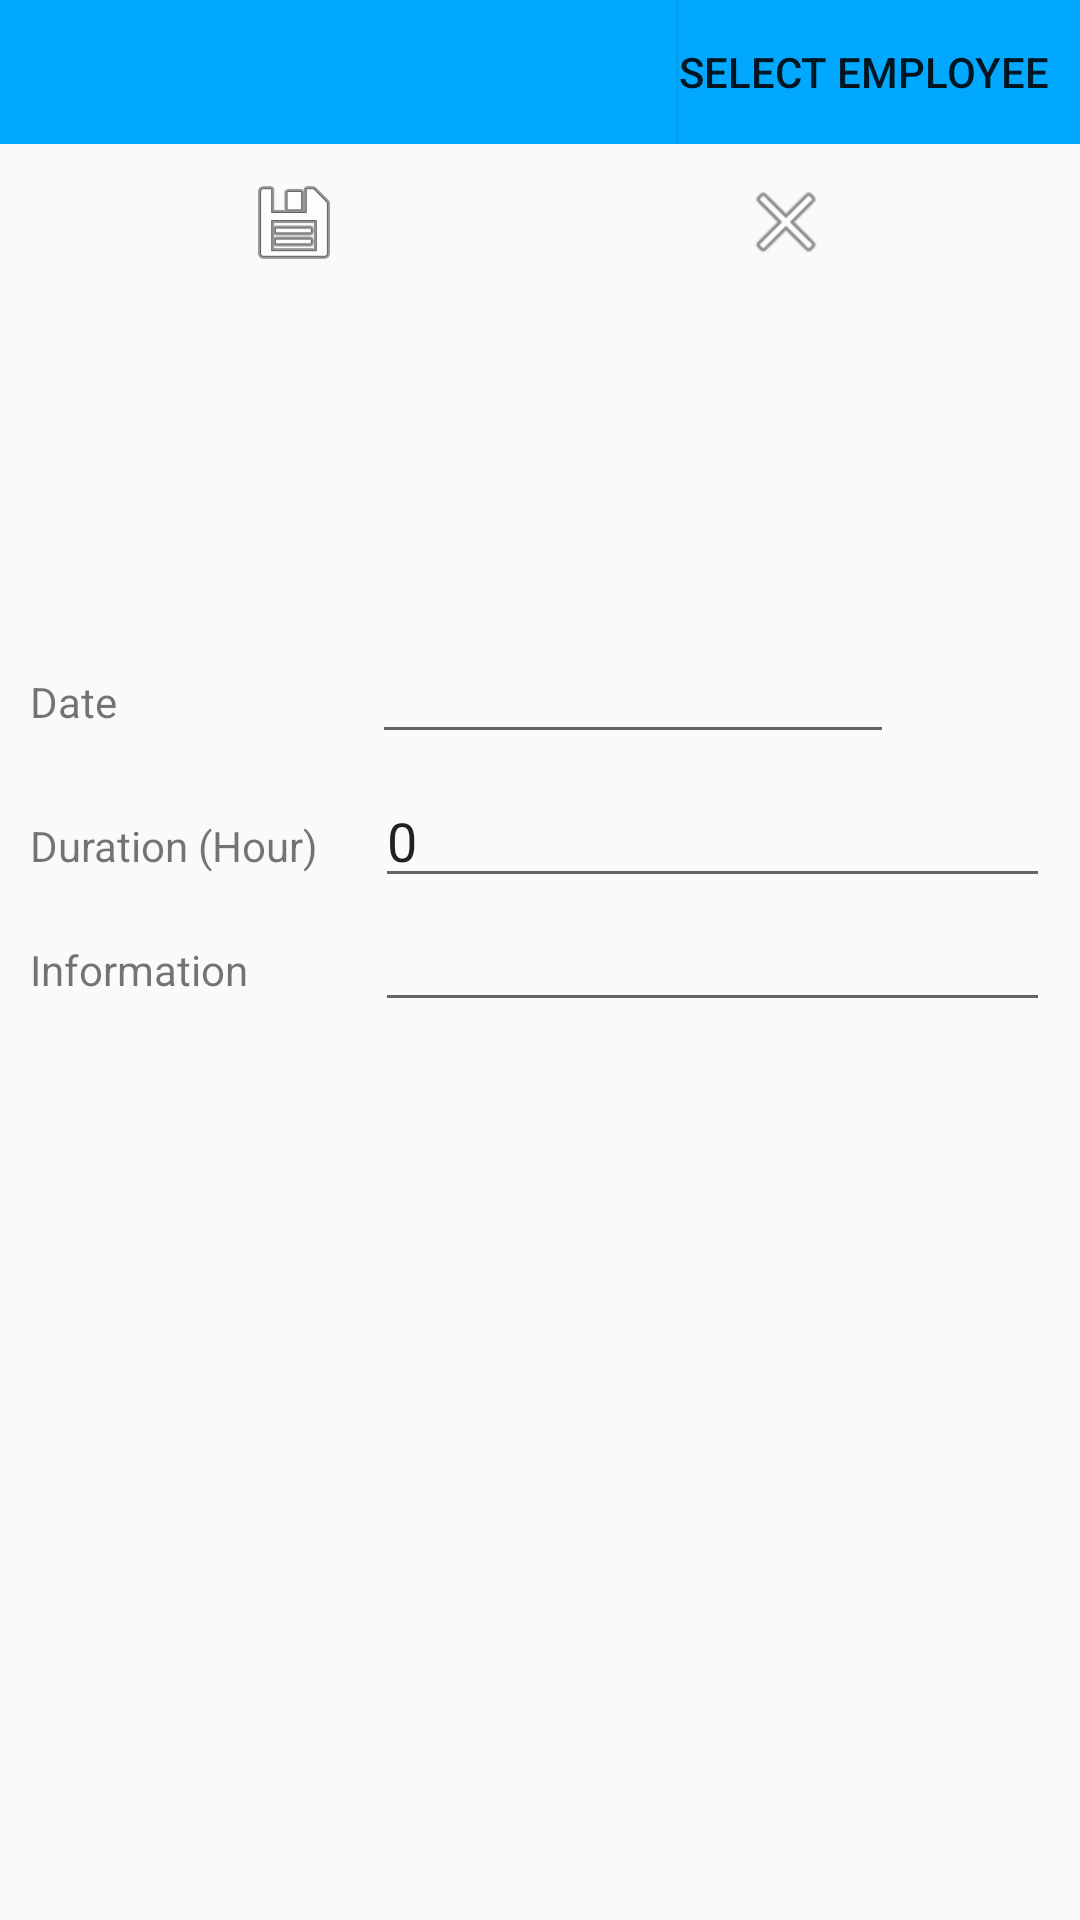

Screen size 1080px×1920px. Icon name, then its center in pixels as (x,y):
close clear cancel: (786,222)
save: (294,222)
